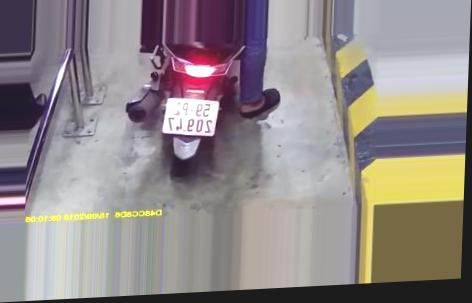License_Plate: (159, 91, 222, 142)
